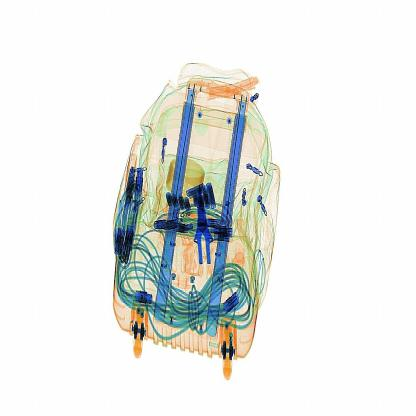gun: (178, 186, 237, 283)
